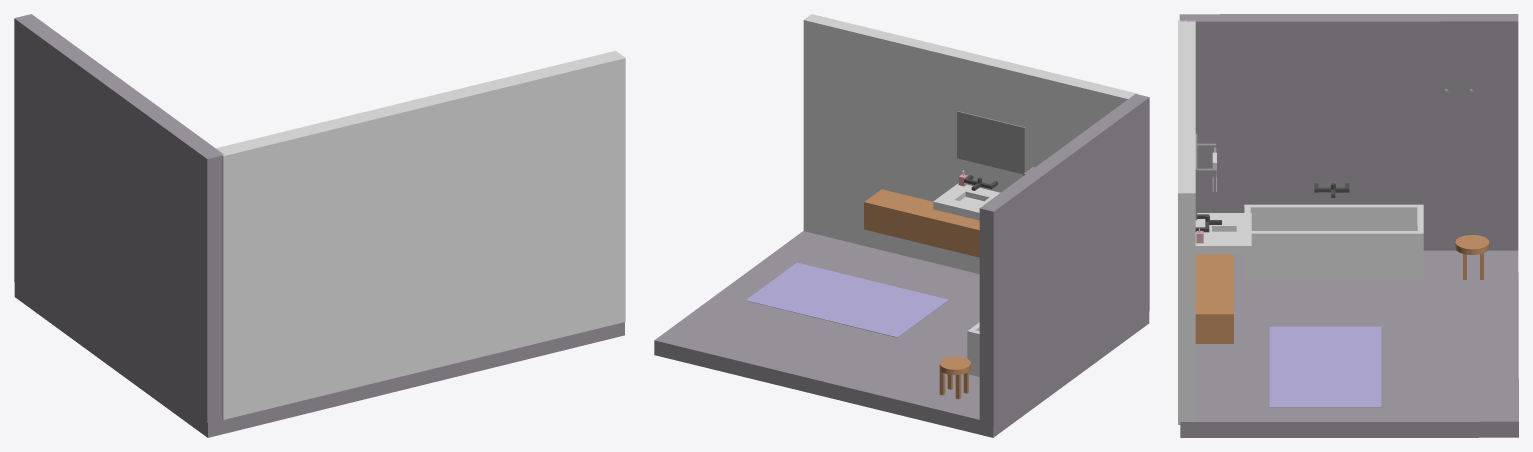
File: bathroom_all_assets.fbx
The picture shows the model from 3 angles, left to right: view 1: azimuth 30°, elevation 25°; view 2: azimuth 150°, elevation 25°; view 3: azimuth 270°, elevation 25°; orthographic projection. The views are drawn at different scales.
Parts seen in each view (by area): view 1: Cube_35, Cube_36, Cube_37; view 2: Cube_35, Cube_36, Cube_37, Cube_18, Cube, Cube_26, Cylinder, Cube_21; view 3: Cube_36, Cube_37, Cube_18, Cube_13, Cube_35, Cube_14, Cube, Cube_21, Cube_20, Cylinder, Cube_22.
Boxes of the visible parts, left/top/right/bottom form: Cube_35: left=215, top=50, right=625, bottom=419; Cube_36: left=14, top=14, right=224, bottom=422; Cube_37: left=14, top=283, right=624, bottom=437; Cube_35: left=803, top=14, right=1137, bottom=273; Cube_36: left=979, top=94, right=1149, bottom=425; Cube_37: left=654, top=231, right=1149, bottom=437; Cube_18: left=745, top=262, right=948, bottom=337; Cube: left=864, top=189, right=979, bottom=257; Cube_26: left=957, top=111, right=1025, bottom=174; Cylinder: left=939, top=356, right=970, bottom=374; Cube_21: left=933, top=183, right=970, bottom=212; Cube_36: left=1179, top=14, right=1518, bottom=250; Cube_37: left=1180, top=250, right=1518, bottom=437; Cube_18: left=1269, top=326, right=1381, bottom=407; Cube_13: left=1244, top=231, right=1423, bottom=279; Cube_35: left=1178, top=20, right=1195, bottom=424; Cube_14: left=1244, top=204, right=1423, bottom=230; Cube: left=1195, top=254, right=1233, bottom=343; Cube_21: left=1195, top=238, right=1251, bottom=254; Cube_20: left=1195, top=213, right=1251, bottom=231; Cylinder: left=1455, top=235, right=1489, bottom=254; Cube_22: left=1236, top=221, right=1251, bottom=244.
Size of the model in its own units: 1239 by 789 by 995.
